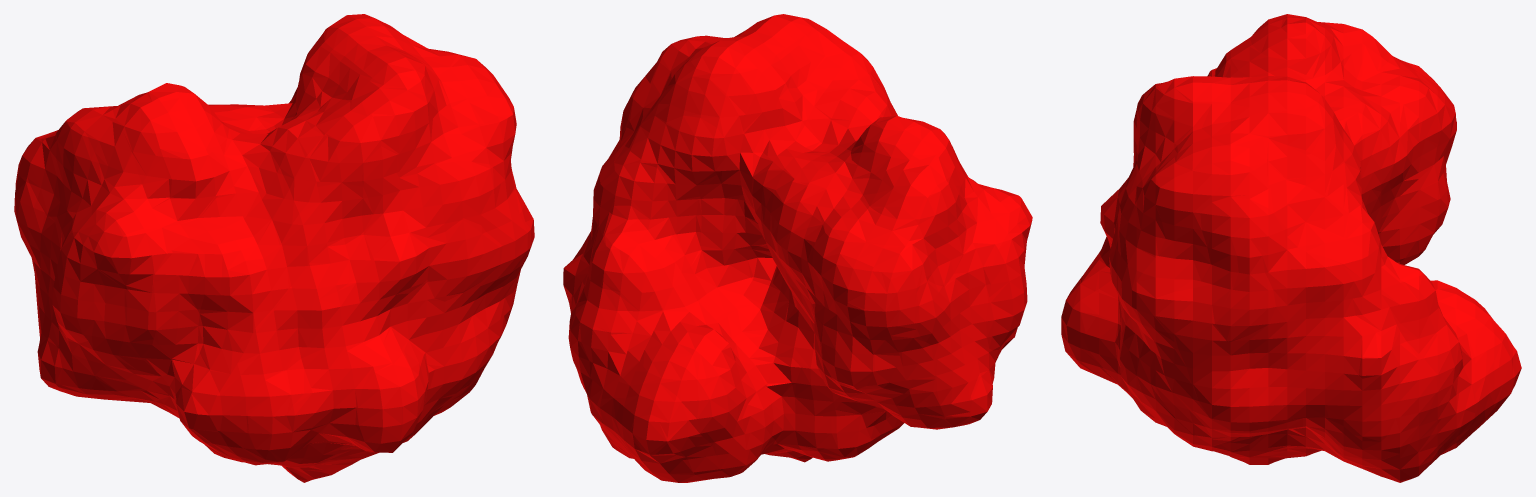
File: miaB_coarse.dae
3 views of the same model, side by side, from view 1: azimuth 30°, elevation 25°; view 2: azimuth 150°, elevation 25°; view 3: azimuth 270°, elevation 25° (orthographic). The views are drawn at different scales.
Visible parts, largest first — view 1: miaB; view 2: miaB; view 3: miaB.
Boxes of the visible parts, x1=… form: miaB: x1=14, y1=14, x2=534, y2=482; miaB: x1=563, y1=14, x2=1032, y2=482; miaB: x1=1061, y1=14, x2=1521, y2=482.
Bounding box in the file's own units: 64.69 × 60.92 × 61.71.
